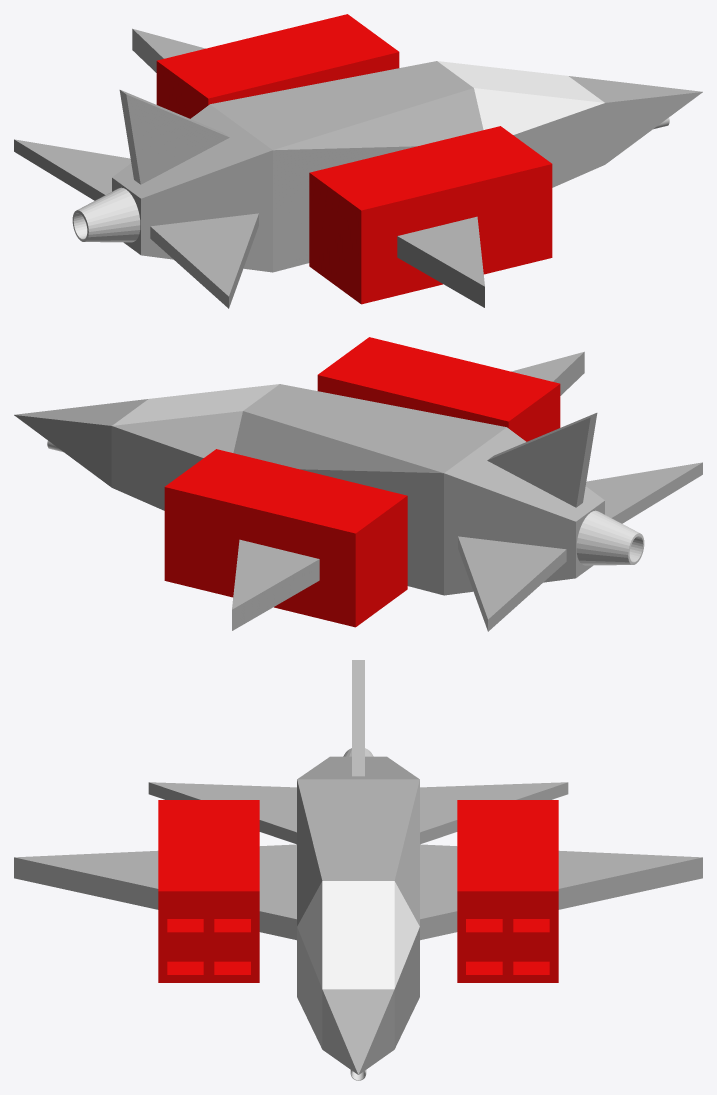
The model's file is missileplane.fbx.
3 renders of one model, top to bottom at view 1: azimuth 30°, elevation 25°; view 2: azimuth 150°, elevation 25°; view 3: azimuth 270°, elevation 25°, orthographic. The views are drawn at different scales.
Parts seen in each view (by area): view 1: MAIN, Cube.001, Cube.004, MAIN.001, Cube.002, Cube.006, Cylinder; view 2: MAIN, Cube.001, Cube.004, MAIN.001, Cube.002, Cube.006, Cylinder; view 3: Cube.001, MAIN, Cube.002, MAIN.001, Cube.004, Cube.006.
Boxes of the visible parts, x1,y1,x2,y2 form: MAIN: (112, 61, 702, 272); Cube.001: (156, 14, 552, 304); Cube.004: (14, 139, 258, 308); MAIN.001: (437, 61, 604, 134); Cube.002: (132, 28, 484, 307); Cube.006: (119, 90, 229, 184); Cylinder: (72, 187, 140, 242); MAIN: (14, 384, 604, 595); Cube.001: (164, 337, 560, 627); Cube.004: (458, 462, 702, 631); MAIN.001: (112, 384, 279, 457); Cube.002: (232, 351, 584, 630); Cube.006: (487, 413, 597, 507); Cylinder: (576, 510, 644, 565); Cube.001: (158, 800, 558, 982); MAIN: (297, 756, 419, 1074); Cube.002: (14, 844, 702, 940); MAIN.001: (297, 881, 419, 989); Cube.004: (148, 782, 568, 844); Cube.006: (352, 660, 364, 776).
Bounding box in the file's own units: 13.87 × 3.97 × 13.62.
